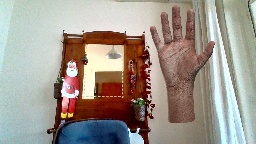Mano_aperta: (146, 3, 216, 85)
